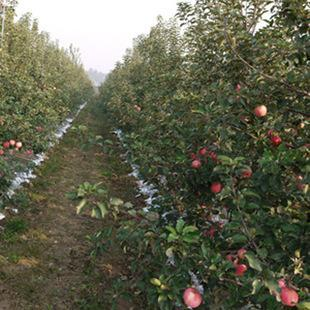apple: (182, 287, 201, 308), (280, 288, 298, 306), (254, 104, 267, 117), (210, 182, 222, 193)
